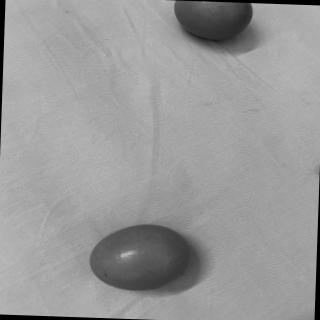Telur: (85, 221, 195, 297), (174, 2, 257, 49)
